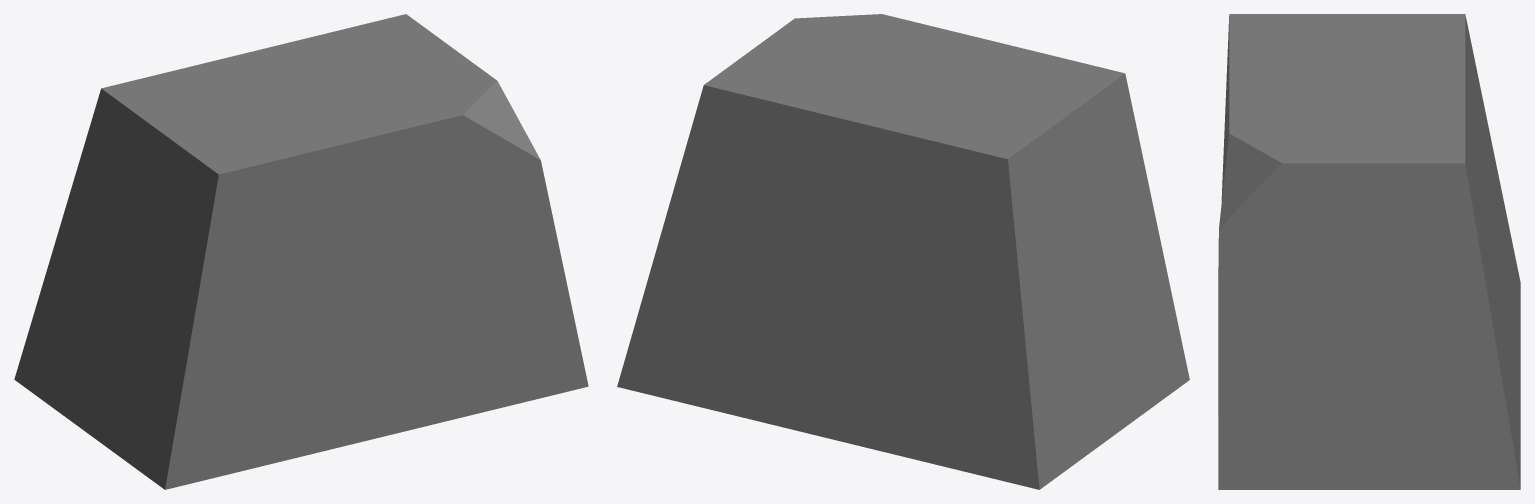
The model's file is Stone 3.fbx.
3 views of the same model, side by side, from view 1: azimuth 30°, elevation 25°; view 2: azimuth 150°, elevation 25°; view 3: azimuth 270°, elevation 25° (orthographic).
Parts seen in each view (by area): view 1: Stone_3; view 2: Stone_3; view 3: Stone_3.
Part boxes in pixels (box(x1,y1,x2,y2)): Stone_3: box(14, 14, 588, 489); Stone_3: box(617, 14, 1189, 489); Stone_3: box(1218, 14, 1520, 489).
Size of the model in its own units: 2.21 by 1.48 by 1.36.
